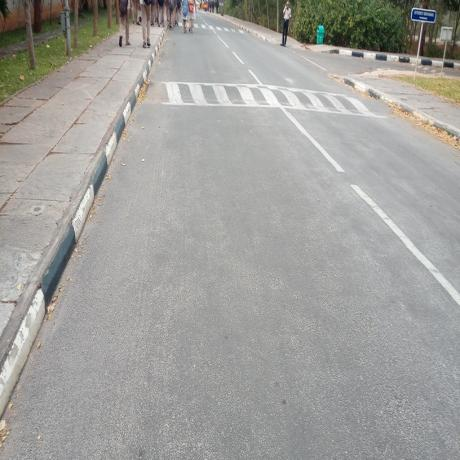Speed Bump: (143, 78, 390, 115)
